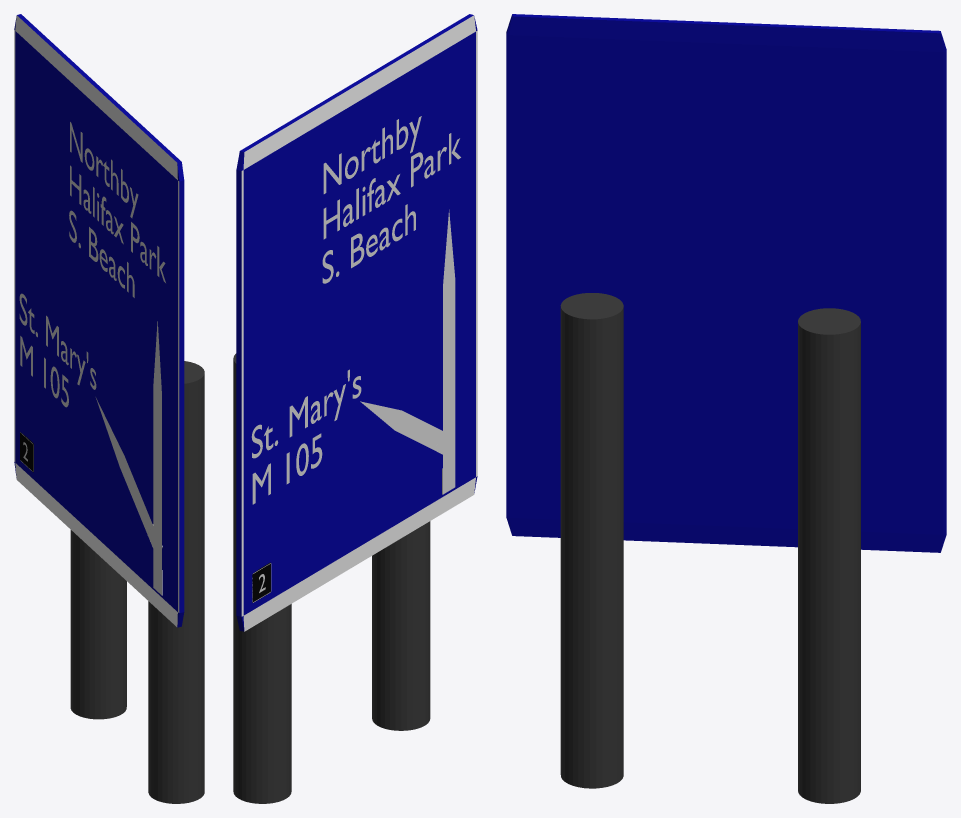
File: JCT2JunctionSign1.fbx
The picture shows the model from 3 angles, left to right: view 1: azimuth 30°, elevation 25°; view 2: azimuth 150°, elevation 25°; view 3: azimuth 270°, elevation 25°; orthographic projection. The views are drawn at different scales.
Visible parts, largest first — view 1: Sign, Sign.006, Sign.003, Sign.005, Sign.004, Sign.007; view 2: Sign, Sign.006, Sign.003, Sign.005, Sign.004, Sign.007; view 3: Sign.
Boxes of the visible parts, x1=… form: Sign: x1=14, y1=14, x2=204, y2=803; Sign.006: x1=69, y1=122, x2=165, y2=297; Sign.003: x1=153, y1=321, x2=162, y2=595; Sign.005: x1=19, y1=293, x2=96, y2=407; Sign.004: x1=95, y1=397, x2=162, y2=556; Sign.007: x1=20, y1=432, x2=33, y2=472; Sign: x1=233, y1=14, x2=477, y2=803; Sign.006: x1=322, y1=116, x2=460, y2=283; Sign.003: x1=442, y1=209, x2=455, y2=494; Sign.005: x1=251, y1=369, x2=361, y2=504; Sign.004: x1=360, y1=401, x2=449, y2=454; Sign.007: x1=252, y1=562, x2=271, y2=602; Sign: x1=506, y1=14, x2=946, y2=803.
Size of the model in its own units: 115 by 824 by 443.
